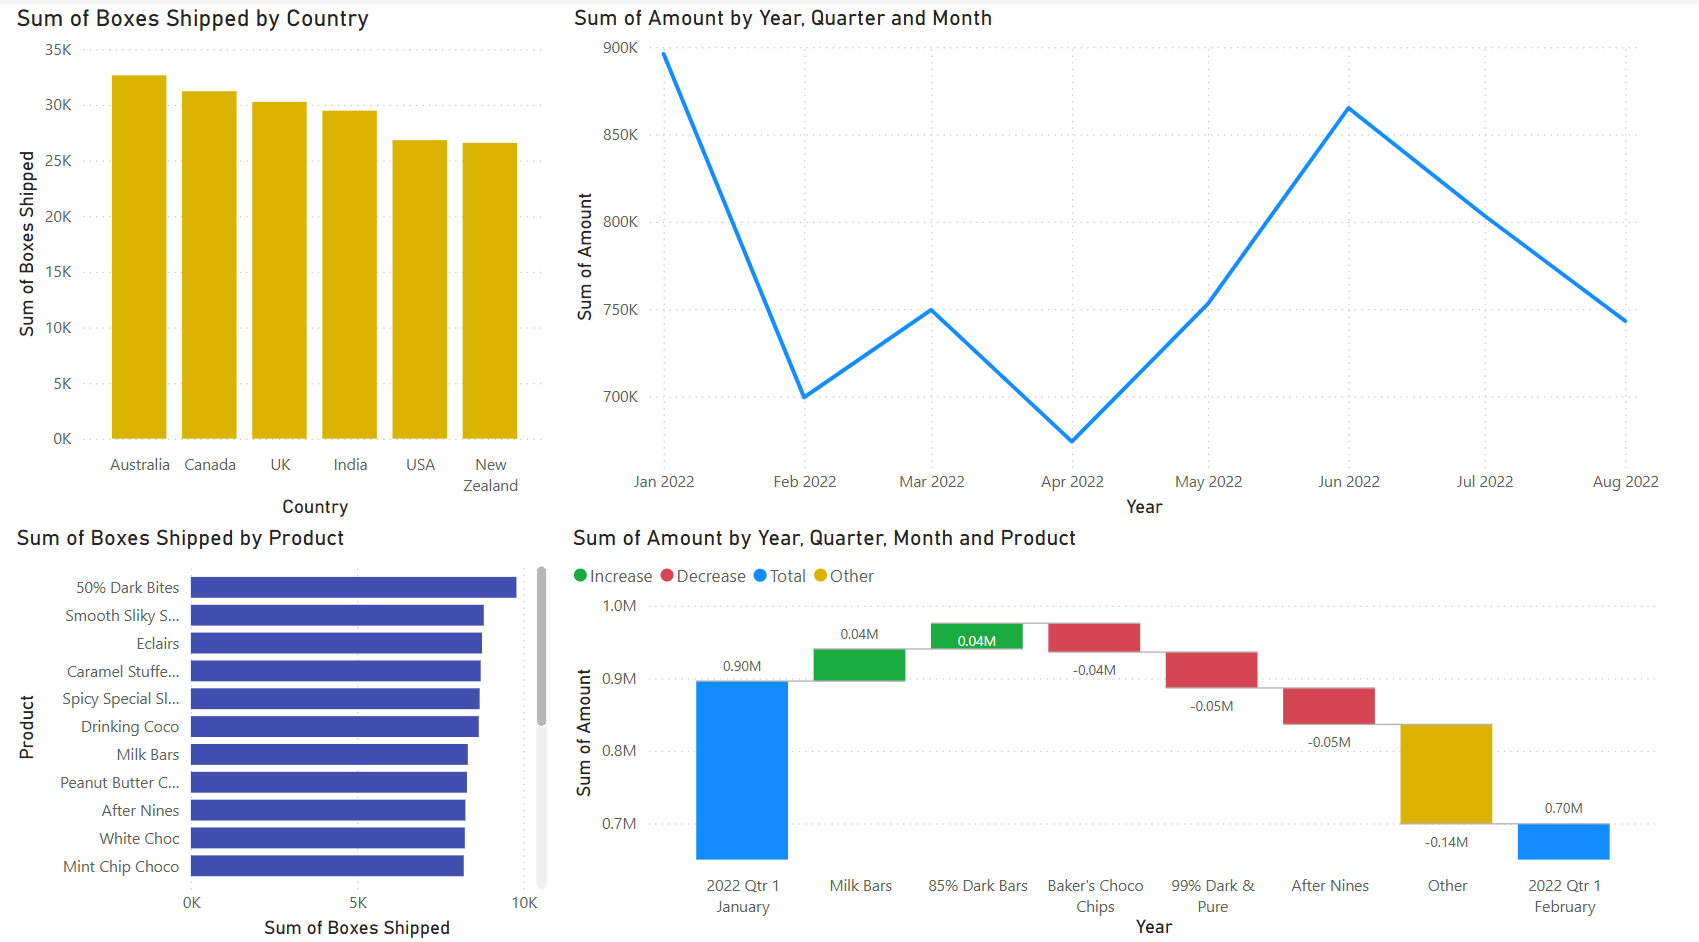

Layout of this report page (visuals, bound fields, positions):
{"tool":"powerbi","page":{"name":"Page 1","canvas":[1280,720],"ordinal":0},"visuals":[{"type":"columnChart","fields":{"Category":["data.Country"],"Y":["Sum(data.Boxes Shipped)"]},"box":[11.8,0,416.6,398.1],"z":0},{"type":"barChart","fields":{"Category":["data.Product"],"Y":["Sum(data.Boxes Shipped)"]},"box":[11.8,398.1,416.6,322.5],"z":1},{"type":"lineChart","fields":{"Y":["Sum(data.Amount)"],"Category":["data.Date.Variation.Date Hierarchy.Year","data.Date.Variation.Date Hierarchy.Quarter","data.Date.Variation.Date Hierarchy.Month"]},"box":[438.4,0,841.6,398.1],"z":2},{"type":"waterfallChart","fields":{"Category":["data.Date.Variation.Date Hierarchy.Year","data.Date.Variation.Date Hierarchy.Quarter","data.Date.Variation.Date Hierarchy.Month"],"Breakdown":["data.Product"],"Y":["Sum(data.Amount)"]},"box":[438,398,842,322],"z":3}]}

Visuals, with their boxes in screenshot pixels (x1, y1, x2, y2), scaled from the page's 1280x720 canvas onto the 1699x942 screenshot:
columnChart - data.Country x Sum(data.Boxes Shipped): box(16, 0, 569, 521)
barChart - data.Product x Sum(data.Boxes Shipped): box(16, 521, 569, 941)
lineChart - Sum(data.Amount) x data.Date.Variation.Date Hierarchy.Year: box(582, 0, 1698, 521)
waterfallChart - data.Date.Variation.Date Hierarchy.Year x data.Date.Variation.Date Hierarchy.Quarter: box(581, 521, 1698, 941)
